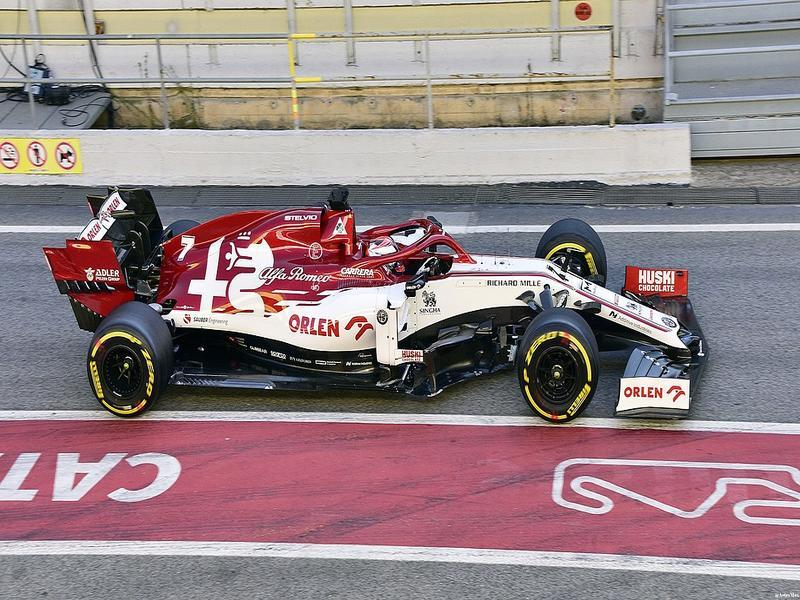racecar: (45, 174, 716, 432)
